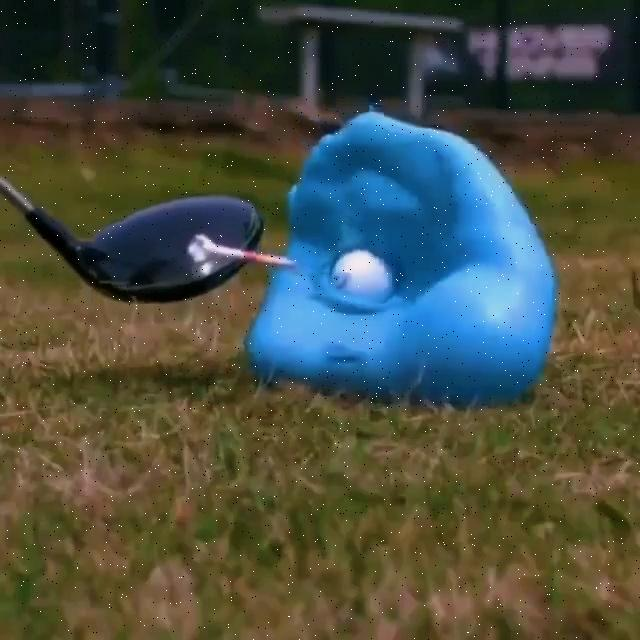golf ball: (323, 244, 388, 308)
golf club-handle: (0, 147, 266, 306)
golf club-head: (89, 199, 263, 298)
